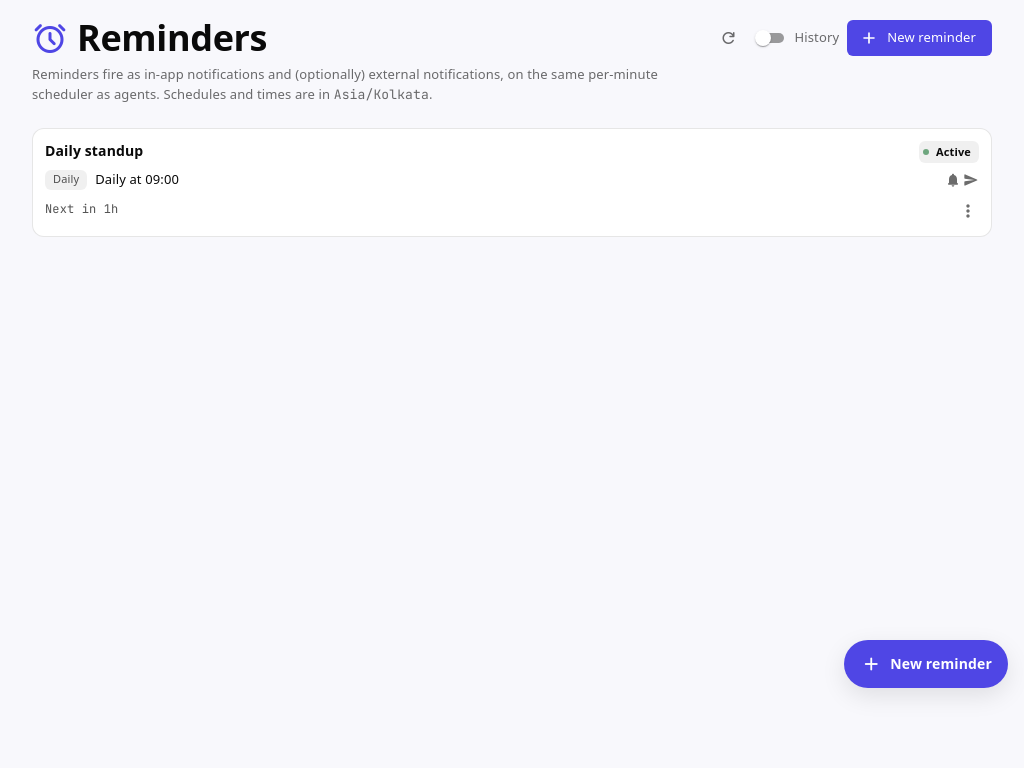
Test: Reminders page — mobile card › renders label + status, schedule + channel, then time line + menu, with no spacer boxes
The width and height of the screenshot is (1024, 768).
expect the text "Daily standup" is shown: met, box [45,141,143,160]
expect the text "active" is shown: met, box [936,144,971,159]
Click the switch named "show history" at (795, 38), box [750,26,839,50]
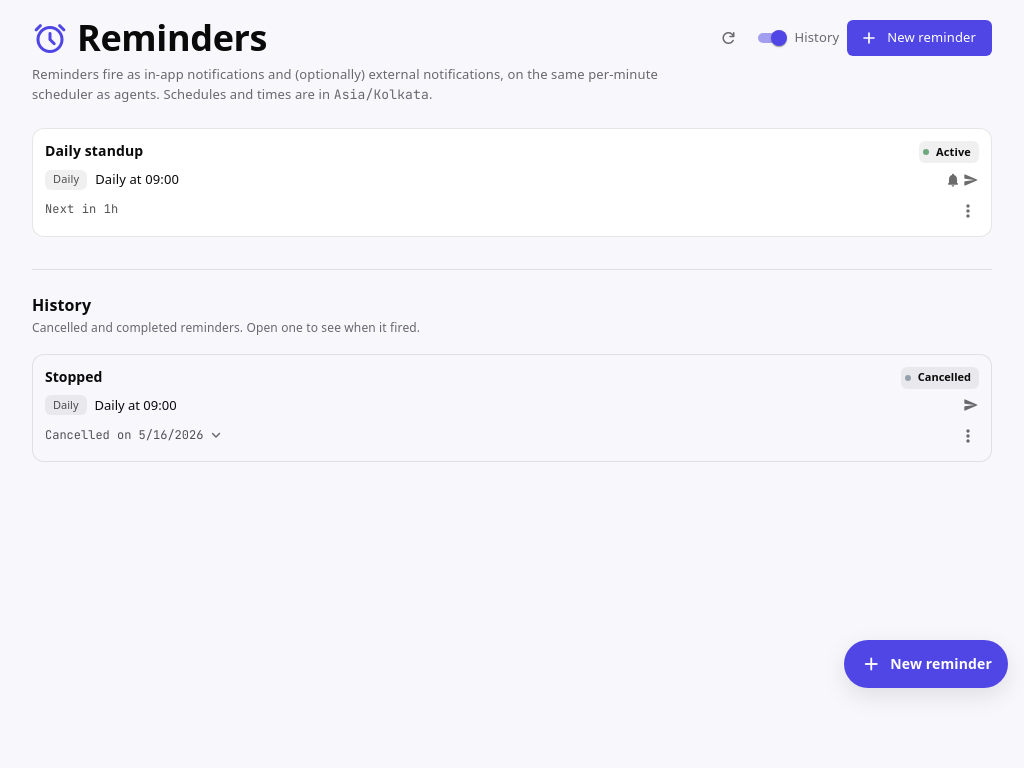
expect the button with aria-label "Stopped — show fire log" is shown: met, box [33,355,991,461]
expect the picture named "External Notification" is shown: met, box [963,397,979,413]
